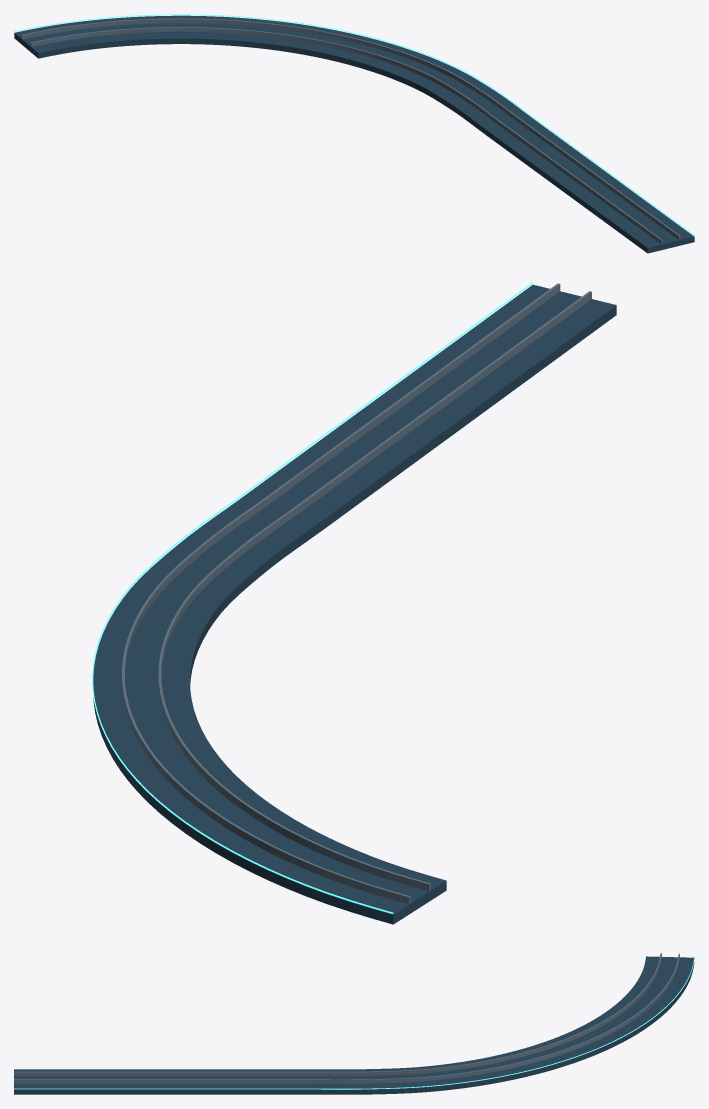
The model's file is track_chunk_16.glb.
3 views of the same model, one above another, from view 1: azimuth 30°, elevation 25°; view 2: azimuth 150°, elevation 25°; view 3: azimuth 270°, elevation 25° (orthographic). The views are drawn at different scales.
Visible parts, largest first — view 1: deck_16, rail_left_16, rail_right_16, edge_light_16; view 2: deck_16, rail_left_16, rail_right_16, edge_light_16; view 3: deck_16, rail_left_16, rail_right_16, edge_light_16.
Part boxes in pixels (left/top/right/bottom): deck_16: left=14, top=15, right=694, bottom=253; rail_left_16: left=21, top=18, right=680, bottom=240; rail_right_16: left=30, top=27, right=662, bottom=244; edge_light_16: left=14, top=14, right=694, bottom=235; deck_16: left=93, top=284, right=616, bottom=924; rail_left_16: left=122, top=283, right=560, bottom=904; rail_right_16: left=158, top=291, right=591, bottom=891; edge_light_16: left=92, top=282, right=532, bottom=913; deck_16: left=14, top=956, right=694, bottom=1094; rail_left_16: left=14, top=953, right=679, bottom=1083; rail_right_16: left=14, top=953, right=661, bottom=1075; edge_light_16: left=14, top=956, right=694, bottom=1089.
Bounding box in the file's own units: 24.81 × 0.7464 × 53.44.
